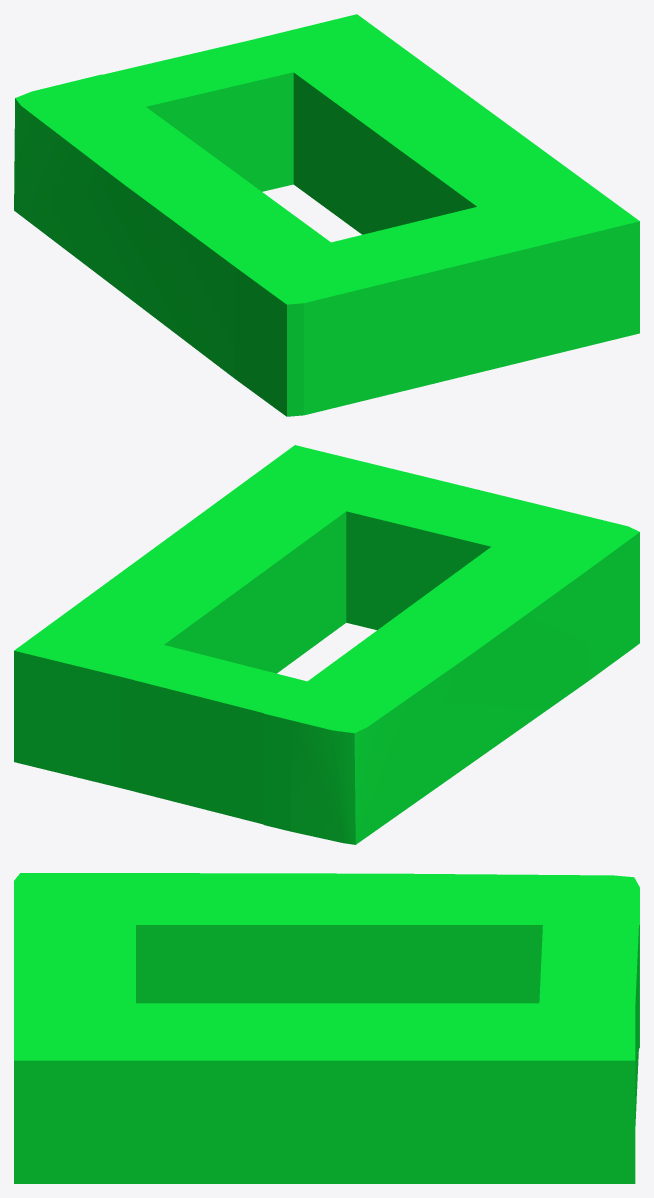
Rendered from LetterD.obj.
The picture shows the model from 3 angles, top to bottom: view 1: azimuth 30°, elevation 25°; view 2: azimuth 150°, elevation 25°; view 3: azimuth 270°, elevation 25°; orthographic projection. The views are drawn at different scales.
Visible parts, largest first — view 1: LetterD; view 2: LetterD; view 3: LetterD.
Boxes of the visible parts, x1=… form: LetterD: x1=14, y1=14, x2=639, y2=416; LetterD: x1=14, y1=445, x2=639, y2=844; LetterD: x1=14, y1=873, x2=639, y2=1183.
Size of the model in its own units: 3.27 by 1 by 4.6.
